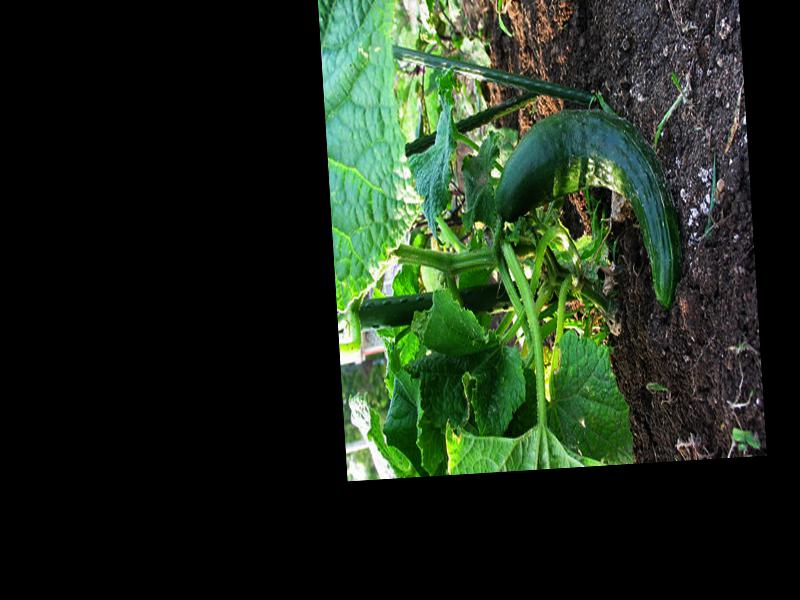Cucumber: (489, 101, 685, 320)
